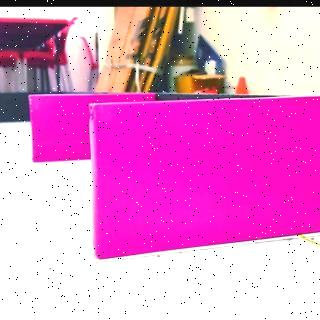xparking: (89, 102, 320, 249), (25, 93, 84, 160)
